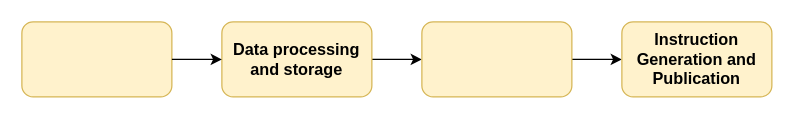
The diagram is 794 pixels wide and 119 high, and some of its shapes have lost their labels. The shapes that lost their labels are listed below. From the top down, each one's box as (x1, y1, x2, y2) in pixels, then its label:
(21, 21, 172, 97): Original data Unification
(421, 21, 572, 97): Data index
